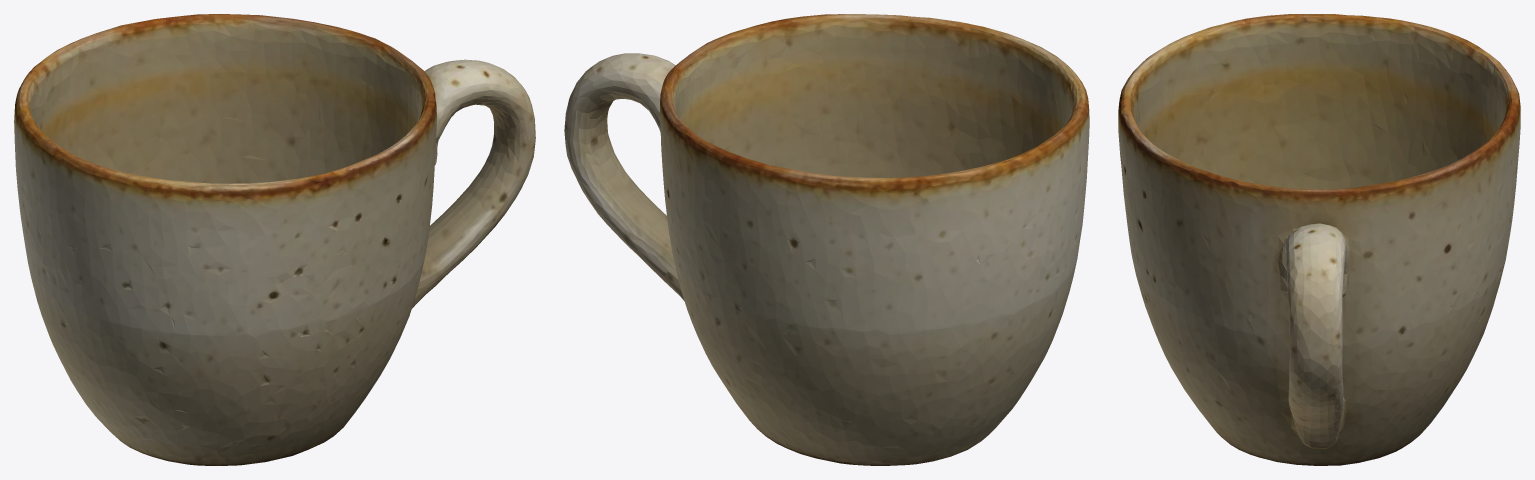
The model's file is cup.glb.
The picture shows the model from 3 angles, left to right: view 1: azimuth 30°, elevation 25°; view 2: azimuth 150°, elevation 25°; view 3: azimuth 270°, elevation 25°; orthographic projection. The views are drawn at different scales.
Parts seen in each view (by area): view 1: geometry_0; view 2: geometry_0; view 3: geometry_0.
Boxes of the visible parts, x1,y1,x2,y2 form: geometry_0: (14, 14, 535, 465); geometry_0: (564, 14, 1089, 465); geometry_0: (1118, 14, 1520, 465).
Bounding box in the file's own units: 0.999 × 0.6326 × 0.7279.
Materials: 1 (1 with a texture image).
